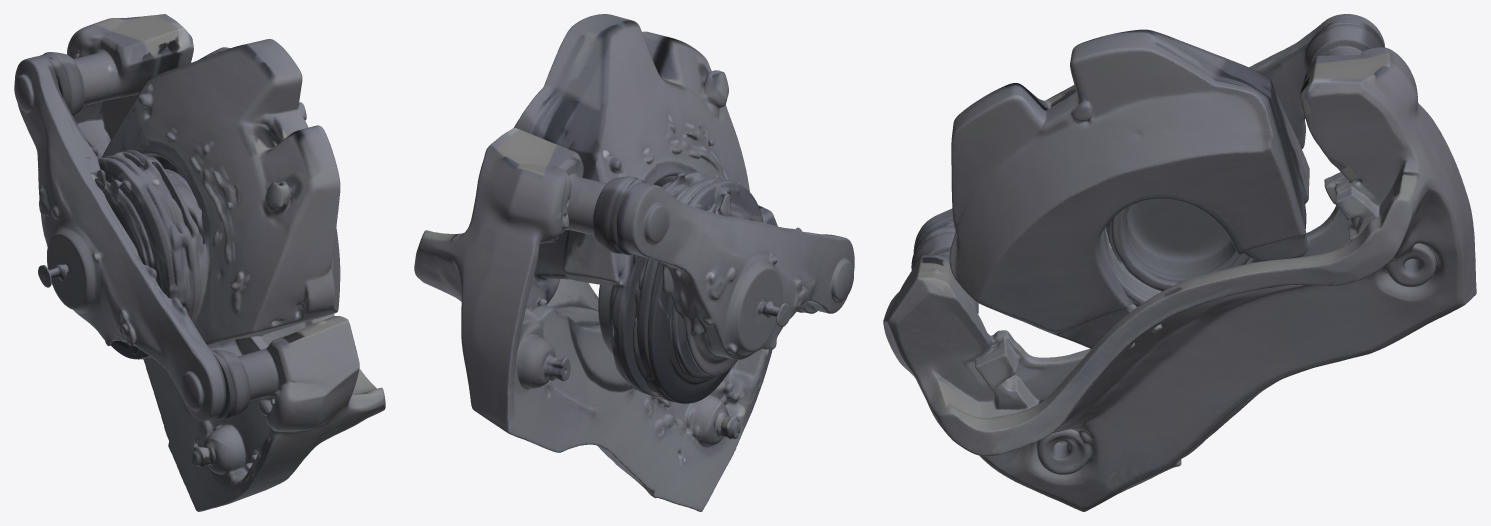
The model's file is brake_caliper.glb.
3 renders of one model, left to right at view 1: azimuth 30°, elevation 25°; view 2: azimuth 150°, elevation 25°; view 3: azimuth 270°, elevation 25°, orthographic. The views are drawn at different scales.
Visible parts, largest first — view 1: tripo_node_c97592e5-1e02-4cea-a449-eda14256a421; view 2: tripo_node_c97592e5-1e02-4cea-a449-eda14256a421; view 3: tripo_node_c97592e5-1e02-4cea-a449-eda14256a421.
Part boxes in pixels (<box>): tripo_node_c97592e5-1e02-4cea-a449-eda14256a421: <box>14,14,385,511</box>; tripo_node_c97592e5-1e02-4cea-a449-eda14256a421: <box>414,14,854,511</box>; tripo_node_c97592e5-1e02-4cea-a449-eda14256a421: <box>883,14,1476,511</box>.
Bounding box in the file's own units: 0.5744 × 0.9537 × 1.
Materials: 1 (1 with a texture image).
